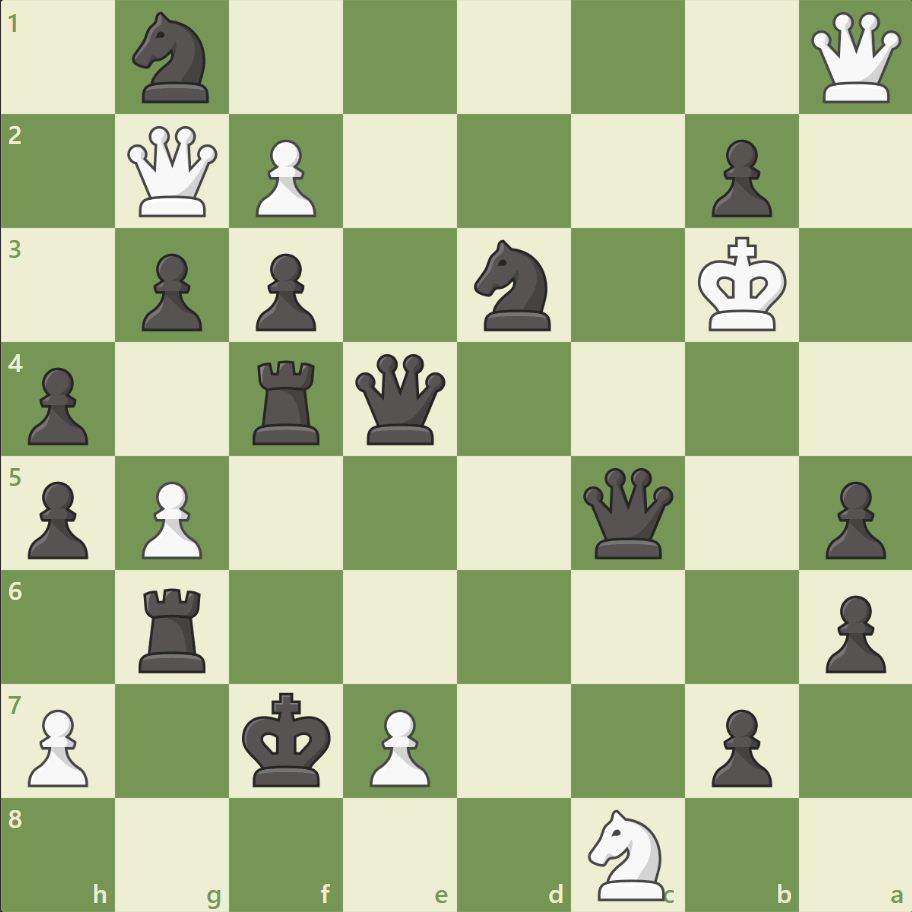K: (692, 231, 792, 339)
N: (579, 802, 676, 904)
P: (20, 700, 95, 791), (133, 473, 208, 564), (247, 132, 322, 223), (361, 700, 435, 791)
Q: (124, 122, 223, 222), (805, 9, 904, 108)
k: (238, 685, 338, 793)
n: (124, 7, 222, 110), (465, 234, 562, 337)
p: (701, 700, 776, 791), (20, 473, 95, 564), (20, 359, 95, 450), (247, 246, 322, 337), (133, 246, 208, 337), (701, 132, 776, 223), (815, 586, 889, 677), (815, 473, 889, 564)
q: (351, 349, 450, 449), (578, 463, 677, 562)
r: (246, 352, 329, 449), (133, 579, 215, 676)
